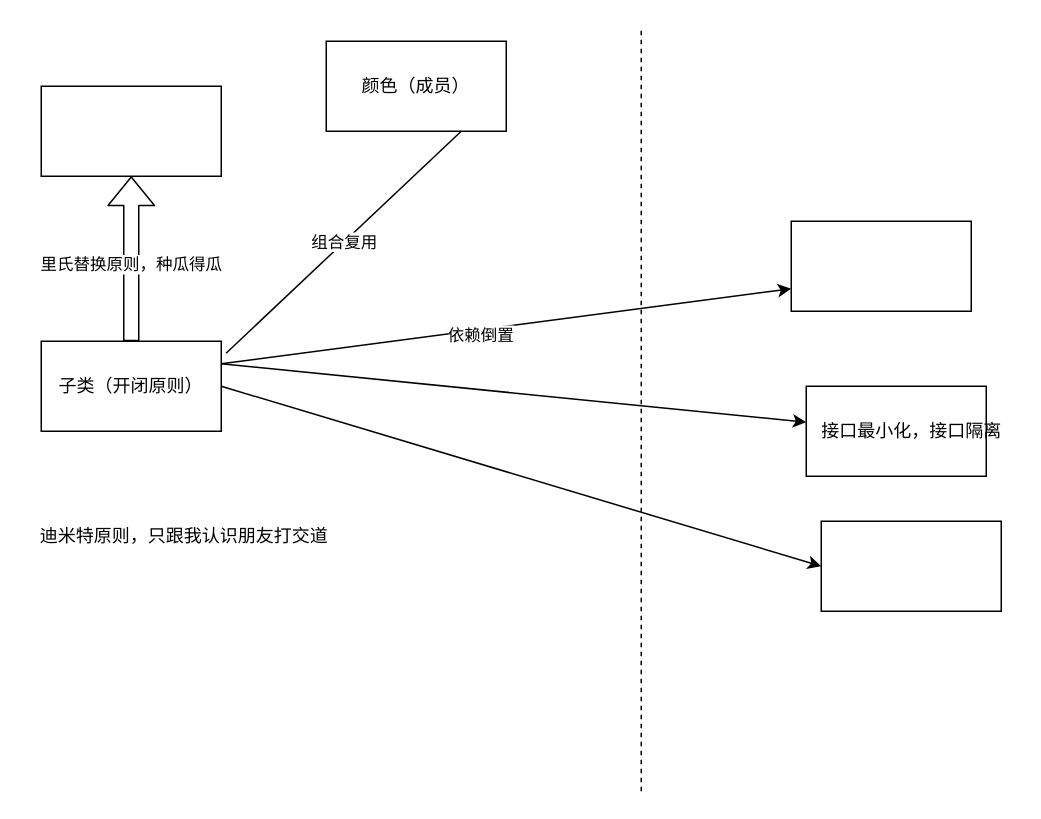
The diagram is 1041 pixels wide and 819 high, and some of its shapes have lost their labels. Here are the shapes that lost their labels. From the top down, the centre of each, then its label:
At [130,130]: "父类".
At [880,265]: "接口，小功能".
